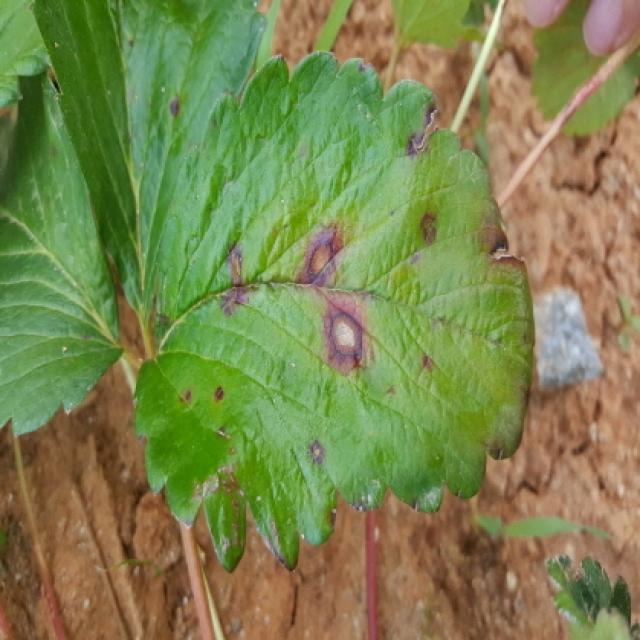Leaf Spot: (130, 50, 535, 576), (29, 0, 268, 329)
